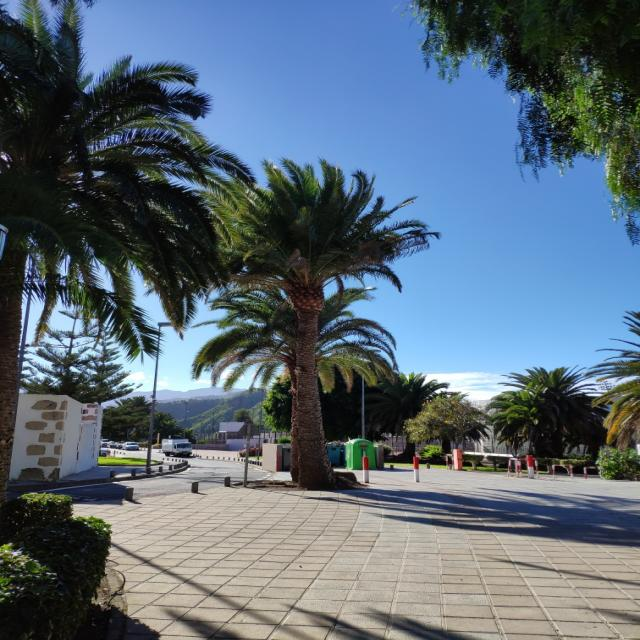Palm-Trees: (194, 156, 425, 486), (503, 367, 598, 457)
